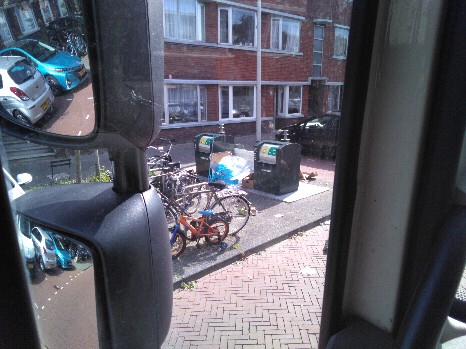Container: (250, 145, 290, 191), (194, 131, 214, 170)
Rest: (215, 152, 248, 192)
Voertuig: (177, 173, 251, 229), (179, 204, 232, 250), (154, 159, 204, 202)
